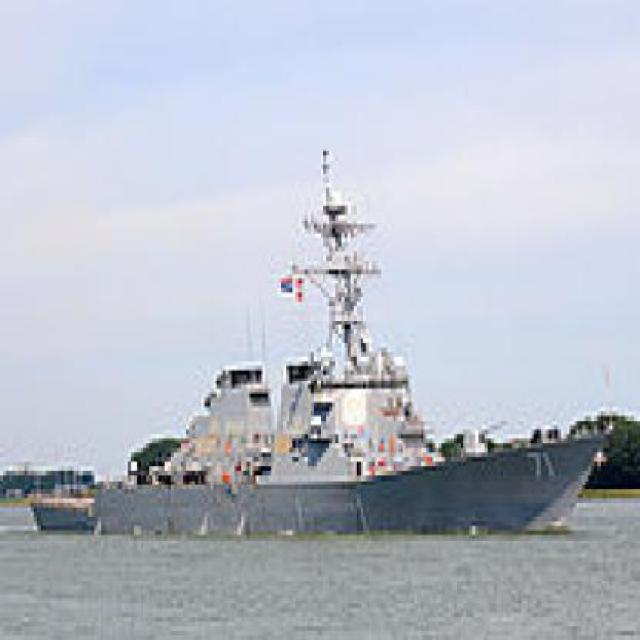warship2: (17, 152, 617, 546)
